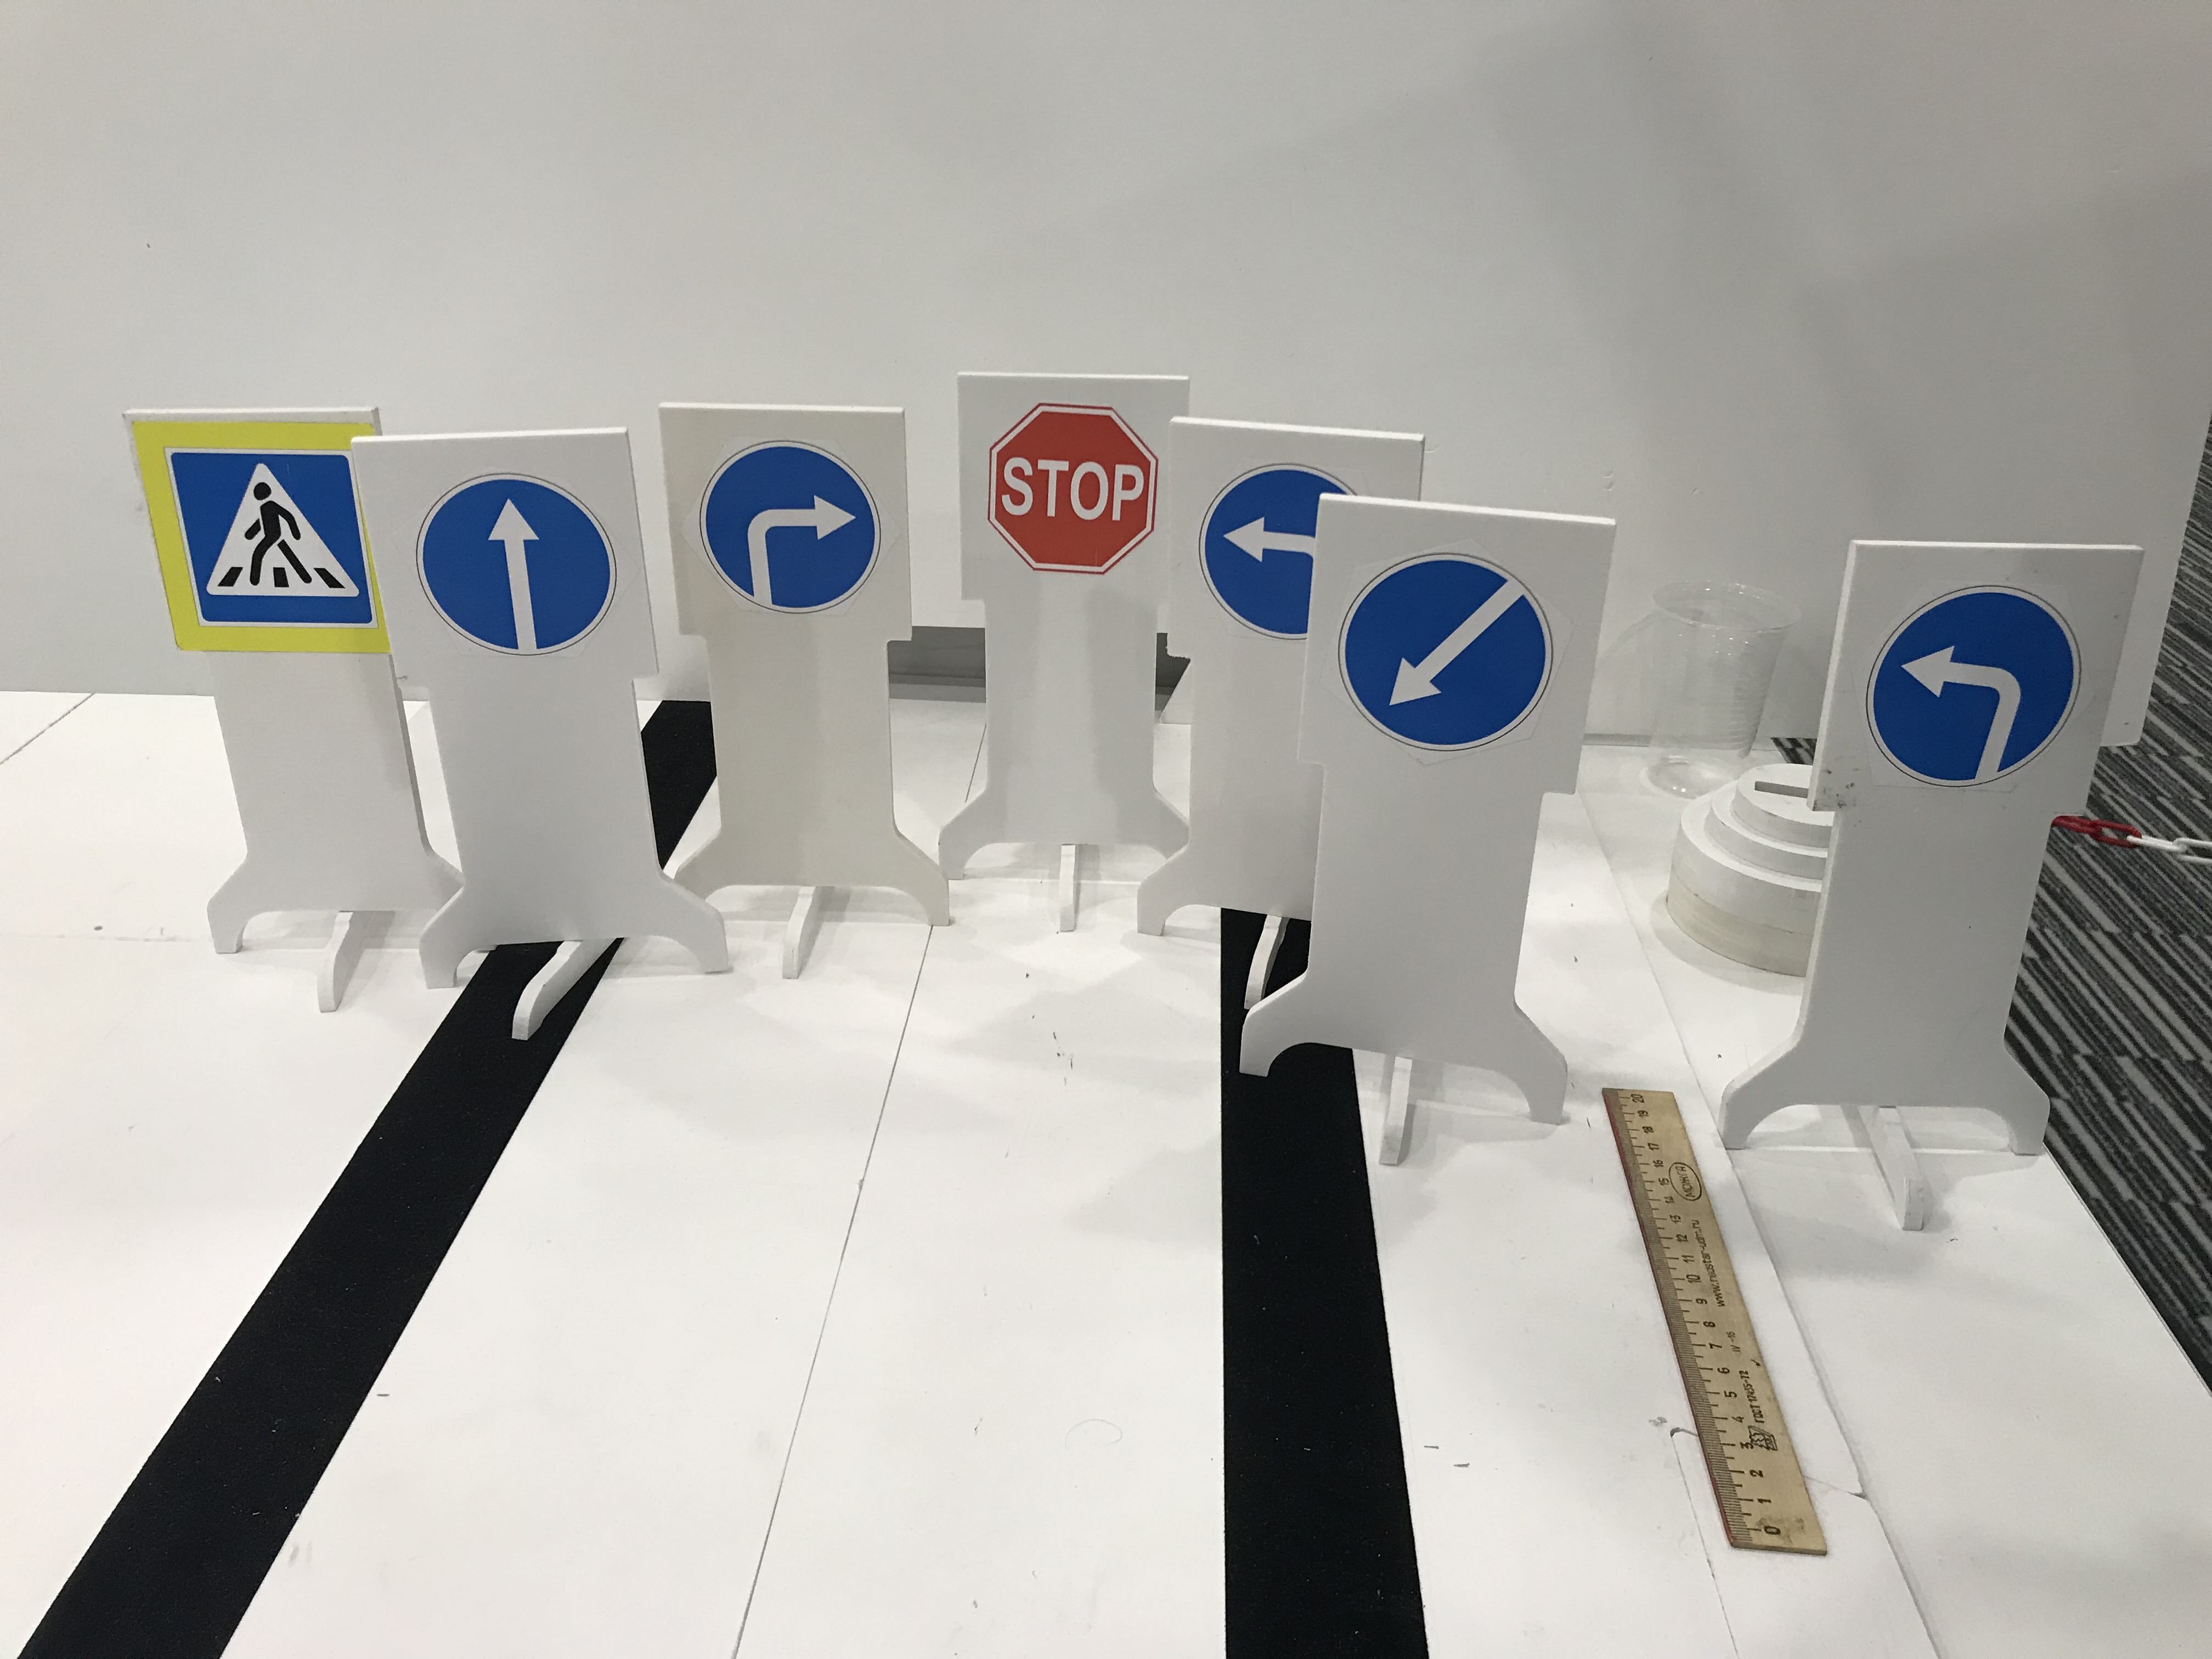Left: (1869, 586, 2081, 779)
Right: (698, 436, 880, 619)
Stop: (979, 403, 1162, 586)
forw: (406, 469, 618, 657)
pesh: (164, 413, 390, 659)
prep: (1339, 554, 1554, 755)
